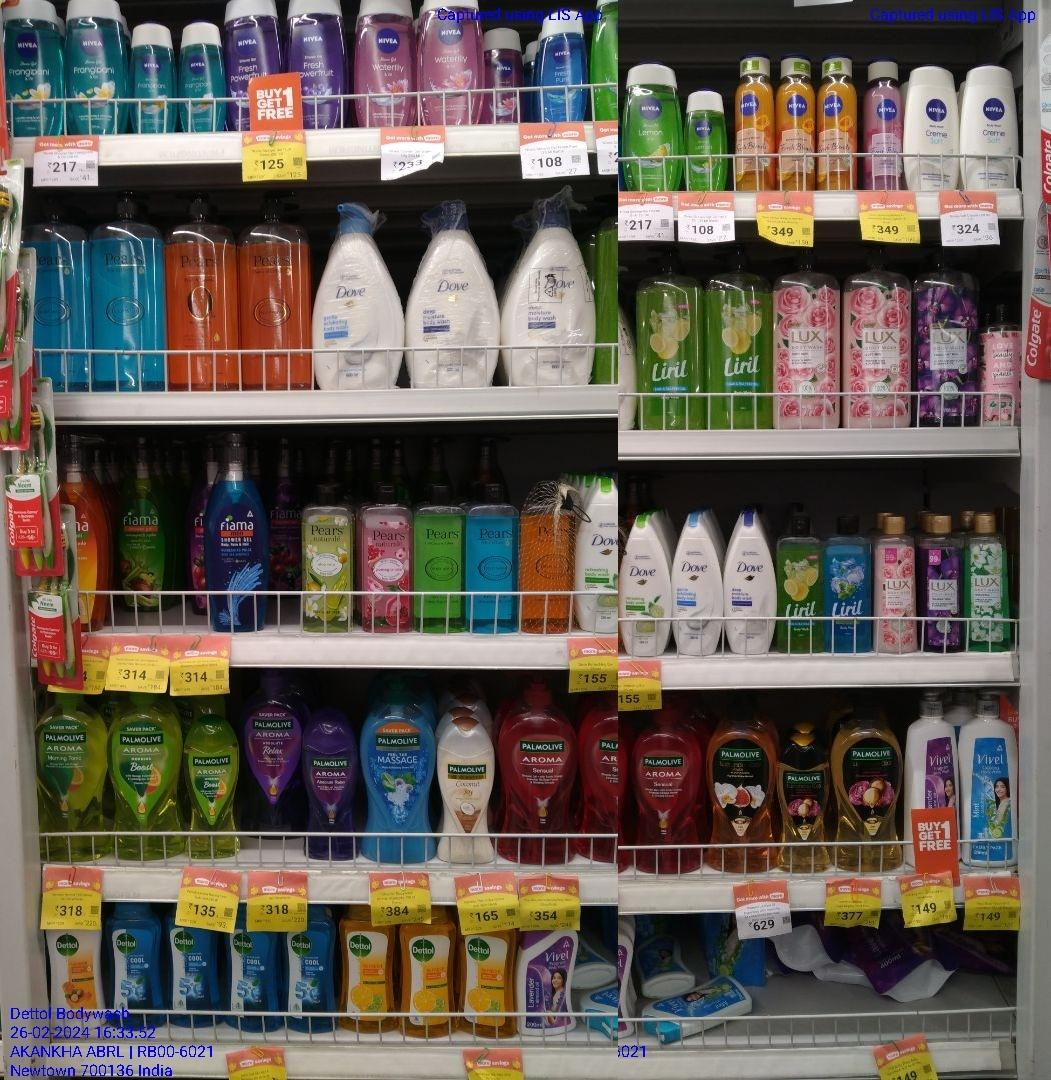Dettol_Bodywash_Cool: (108, 904, 163, 1027), (287, 913, 338, 1035), (224, 930, 281, 1032), (167, 918, 219, 1027)
Dettol_Bodywash_Refresh: (341, 904, 397, 1031), (400, 904, 451, 1036), (460, 934, 516, 1040)
Dettol_Nourish_Body_Wash_250ML: (43, 933, 104, 1032)
Dove_Deep_Moisture_Body_Wash_250ML: (725, 517, 775, 651)
Dove_Gentle_Exfoliating_Body_Wash_250ML: (674, 515, 723, 655)
Dove_Refreshing_Body_Wash_250ML: (621, 516, 671, 657)
Liril_Cooling_Mint_Body_Wash_250ML: (826, 518, 872, 652)
Liril_Lime_and_Tea_Tree_Oil_Body_Wash_250ML: (780, 517, 824, 650)
Lux_Black_Orchid_Scent_and_Juniper_Oil_Body_Wash_245ML: (923, 515, 963, 653)
Lux_Body_Wash_Skin_Detox_Freesia_Scent_and_Alove_Vera_245ML: (967, 514, 1010, 651)
Nivea_Creme_Soft_Body_Wash_250ML: (903, 63, 958, 193), (964, 65, 1019, 188)
Nivea_Shower_Gel_Frangipani_and_Oil_250ML: (3, 0, 67, 138), (70, 0, 128, 132)
Nivea_Shower_Gel_Fresh_Powerfruit_250ML: (287, 0, 341, 131), (225, 0, 279, 130)
Nivea_Shower_Gel_Lemon_and_Oil_250ML: (626, 62, 680, 193)
Nivea_Shower_Gel_Waterlily_and_Oil_250ML: (420, 0, 483, 125), (357, 0, 415, 127)
Palmolive_Aroma_Relax_250ML: (303, 718, 357, 860)
Palmolive_Coconut_Joy_Exfoliating_Body_Wash_250ML: (438, 721, 497, 865)
Palmolive_Luminous_Oils_Invigorating_Macadamia_Oil_With_Peony_250ML: (776, 739, 829, 872)
Pears_Naturale_Aloe_Vera_Body_Wash_250ML: (301, 481, 354, 631)
Pears_Pure_Glycerin_and_Lemon_Flower_Extracts_Body_Wash_250ML: (415, 485, 462, 633)
Pears_Pure_Glycerin_and_Mint_Extracts_Body_Wash_250ML: (466, 482, 518, 634)
